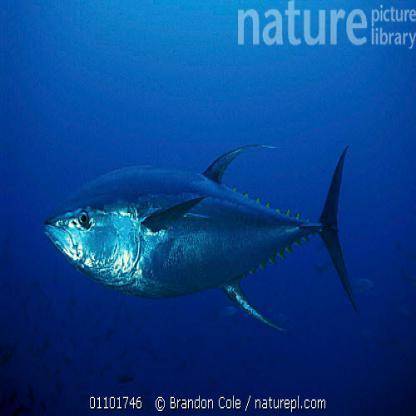Bio: (37, 129, 366, 338)
